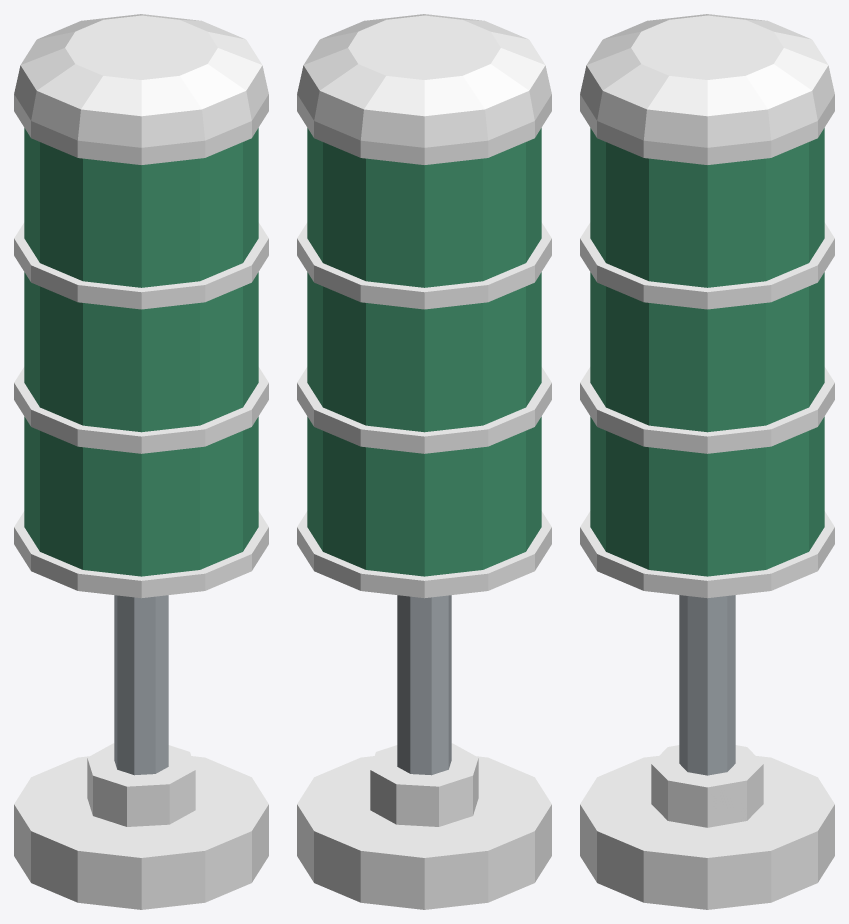
File: beacon.glb
3 views of the same model, side by side, from view 1: azimuth 30°, elevation 25°; view 2: azimuth 150°, elevation 25°; view 3: azimuth 270°, elevation 25° (orthographic).
Visible parts, largest first — view 1: tier.1, tier.0, tier.2, cap, base, pole, pole.socket, separator.1, separator.0, stack.base, separator.2; view 2: tier.1, tier.0, tier.2, cap, base, pole, pole.socket, separator.1, separator.0, stack.base, separator.2; view 3: tier.1, tier.0, tier.2, cap, base, pole, pole.socket, separator.1, separator.0, stack.base, separator.2.
Boxes of the visible parts, left/top/right/bottom form: tier.1: left=24, top=272, right=258, bottom=432; tier.0: left=24, top=416, right=258, bottom=576; tier.2: left=24, top=128, right=258, bottom=287; cap: left=14, top=14, right=268, bottom=147; base: left=14, top=756, right=268, bottom=909; pole: left=114, top=595, right=168, bottom=775; pole.socket: left=87, top=743, right=195, bottom=826; separator.1: left=14, top=222, right=268, bottom=309; separator.0: left=14, top=367, right=268, bottom=453; stack.base: left=14, top=511, right=268, bottom=598; separator.2: left=14, top=94, right=268, bottom=164; tier.1: left=307, top=272, right=541, bottom=432; tier.0: left=307, top=416, right=541, bottom=576; tier.2: left=307, top=128, right=541, bottom=287; cap: left=297, top=14, right=551, bottom=147; base: left=297, top=756, right=551, bottom=909; pole: left=397, top=595, right=451, bottom=775; pole.socket: left=370, top=743, right=478, bottom=826; separator.1: left=297, top=222, right=551, bottom=309; separator.0: left=297, top=367, right=551, bottom=453; stack.base: left=297, top=511, right=551, bottom=598; separator.2: left=297, top=94, right=551, bottom=164; tier.1: left=590, top=272, right=824, bottom=432; tier.0: left=590, top=416, right=824, bottom=576; tier.2: left=590, top=128, right=824, bottom=287; cap: left=580, top=14, right=834, bottom=147; base: left=580, top=756, right=834, bottom=909; pole: left=679, top=595, right=735, bottom=775; pole.socket: left=651, top=745, right=763, bottom=827; separator.1: left=580, top=222, right=834, bottom=309; separator.0: left=580, top=367, right=834, bottom=453; stack.base: left=580, top=511, right=834, bottom=598; separator.2: left=580, top=94, right=834, bottom=164.
Bounding box in the file's own units: 0.2 × 0.7 × 0.2.
